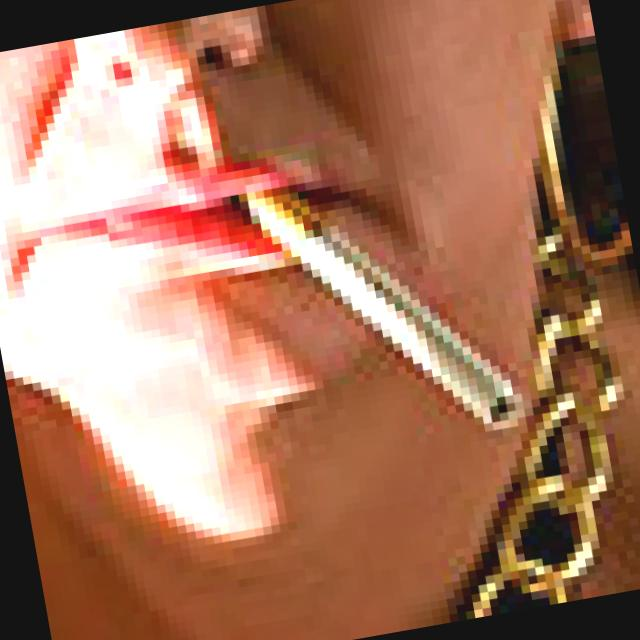smoke: (247, 149, 524, 464)
